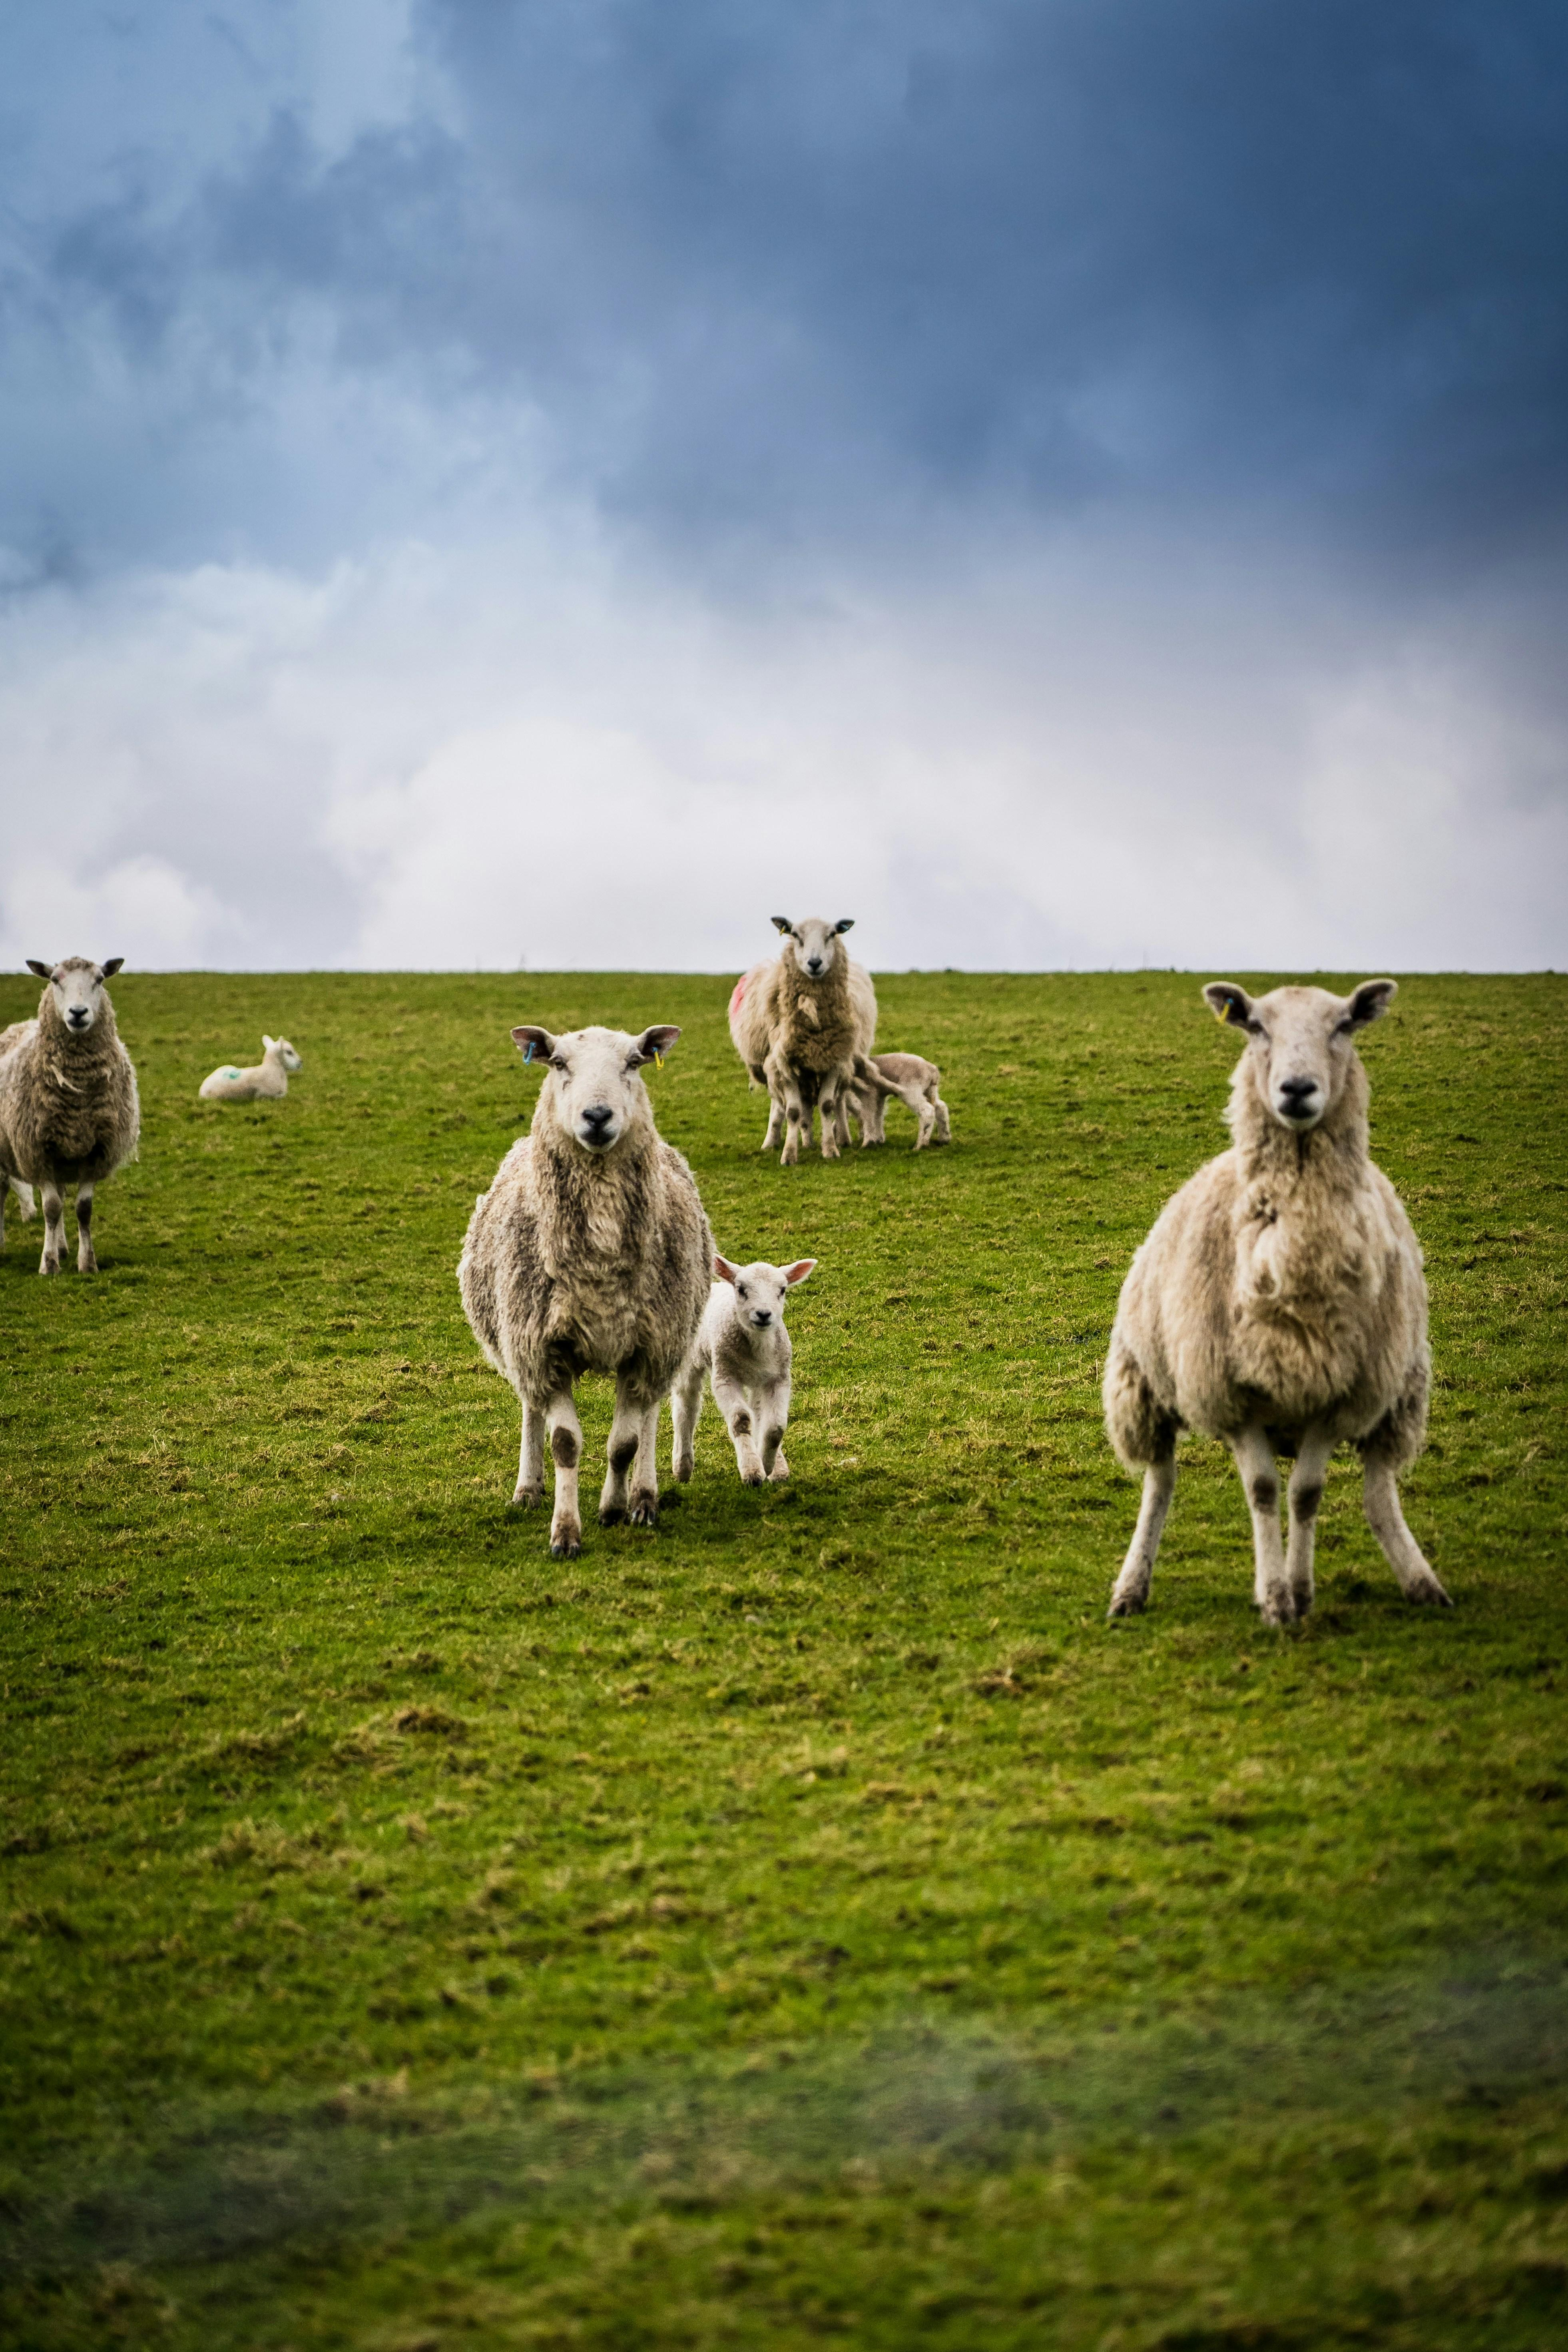sheep: (1108, 975, 1454, 1622), (464, 1024, 716, 1563), (3, 952, 149, 1279), (731, 919, 878, 1164), (667, 1251, 815, 1482), (856, 1046, 947, 1151), (196, 1039, 304, 1111)
